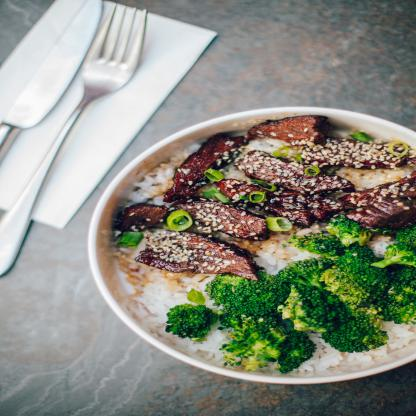Carne: (167, 132, 223, 204), (249, 115, 317, 140), (123, 207, 169, 231)
